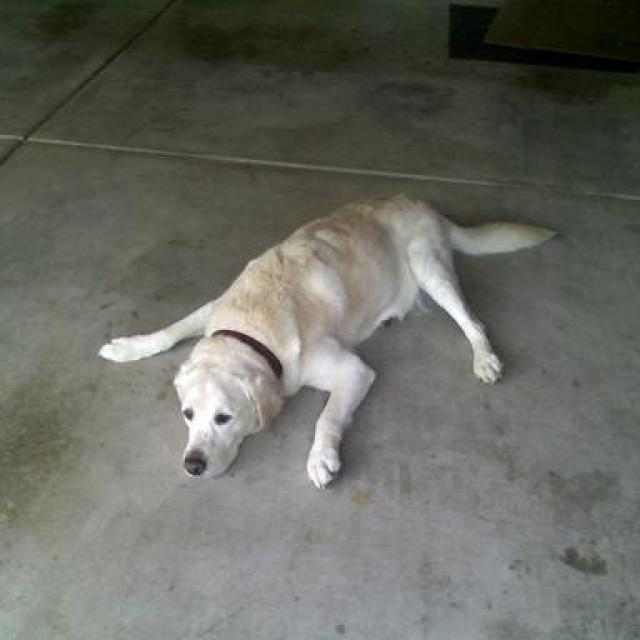sad: (78, 110, 574, 532)
